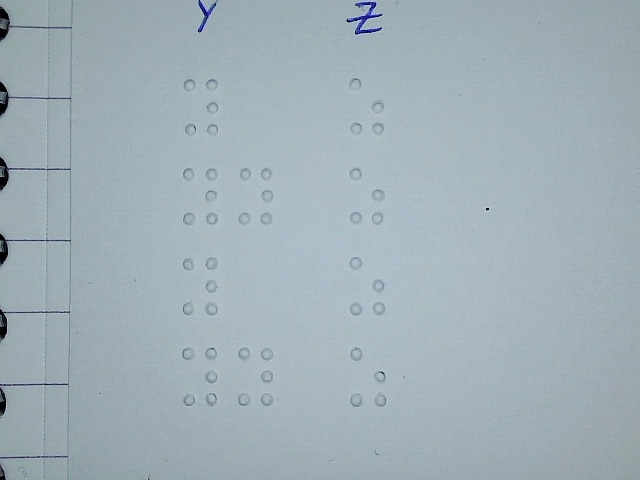Y: (182, 76, 220, 137), (181, 165, 219, 226), (237, 166, 275, 227), (181, 255, 219, 316), (237, 345, 275, 406)
Z: (348, 75, 386, 136), (348, 165, 386, 226), (348, 255, 386, 316), (349, 346, 387, 407)
